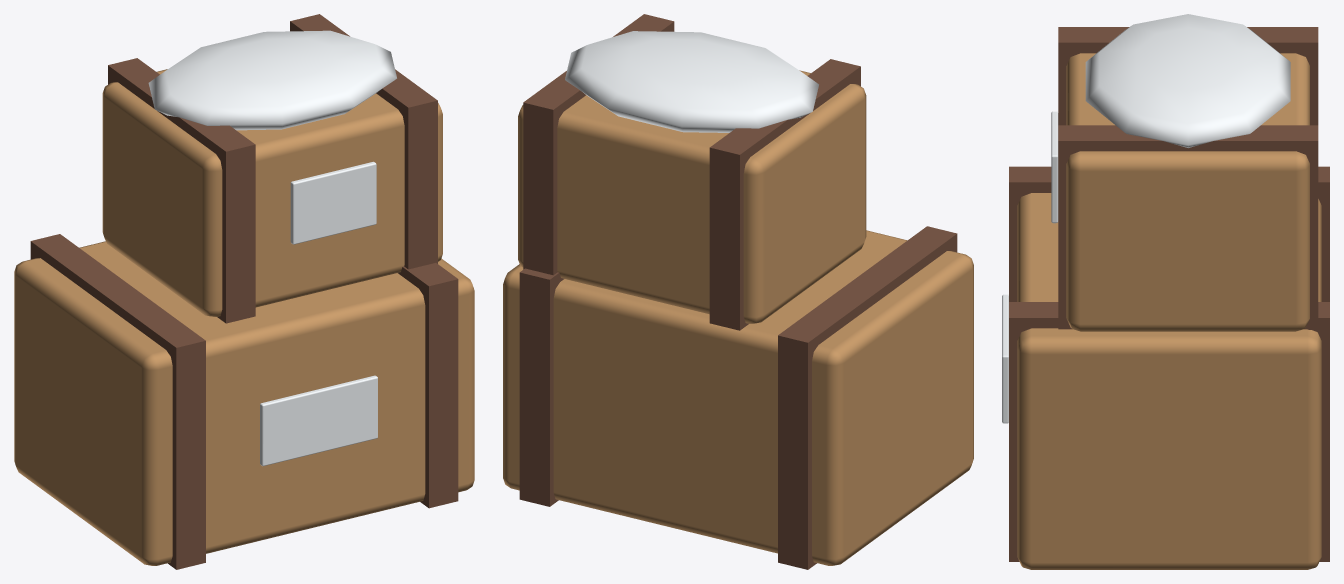
File: alpine-snow-village-stacked-delivery-crates-133073cb__19842.glb
The picture shows the model from 3 angles, left to right: view 1: azimuth 30°, elevation 25°; view 2: azimuth 150°, elevation 25°; view 3: azimuth 270°, elevation 25°; orthographic projection. The views are drawn at different scales.
Parts seen in each view (by area): view 1: stacked-delivery-crates-oak, stacked-delivery-crates-wood, stacked-delivery-crates-snow; view 2: stacked-delivery-crates-oak, stacked-delivery-crates-wood, stacked-delivery-crates-snow; view 3: stacked-delivery-crates-oak, stacked-delivery-crates-snow, stacked-delivery-crates-wood.
Boxes of the visible parts, x1,y1,x2,y2 form: stacked-delivery-crates-oak: (14,69,474,565); stacked-delivery-crates-wood: (30,14,458,569); stacked-delivery-crates-snow: (148,30,396,466); stacked-delivery-crates-oak: (503,70,973,565); stacked-delivery-crates-wood: (519,14,957,569); stacked-delivery-crates-snow: (565,31,818,132); stacked-delivery-crates-oak: (1017,53,1321,569); stacked-delivery-crates-snow: (1002,14,1290,423); stacked-delivery-crates-wood: (1009,27,1329,561).
Bounding box in the file's own units: 0.9 × 1.06 × 0.7.
